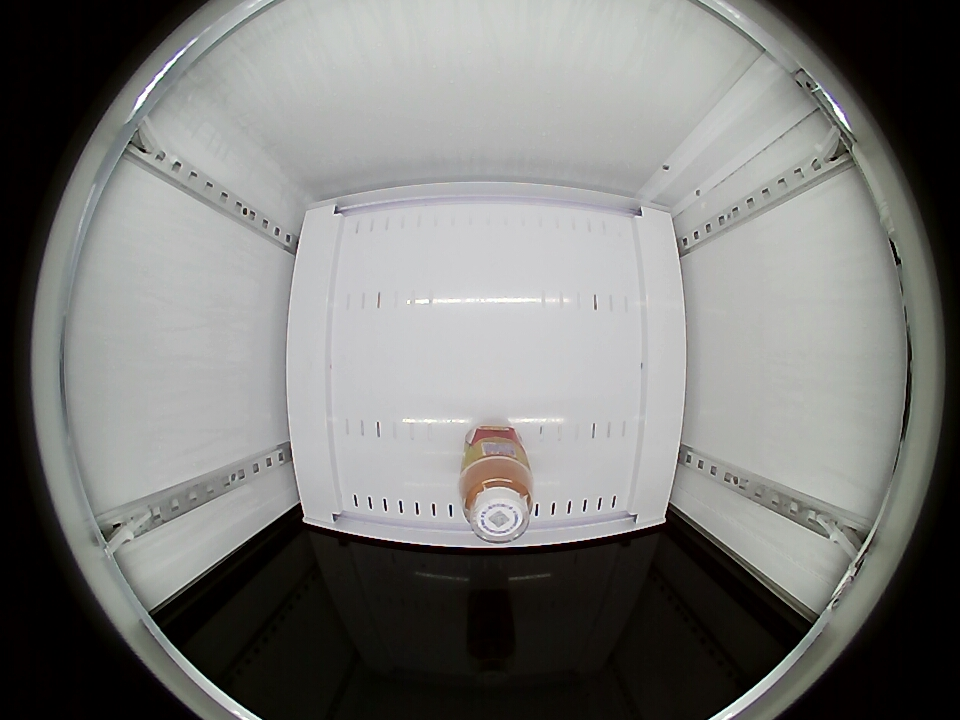dongpeng-b: (459, 457, 535, 544)
